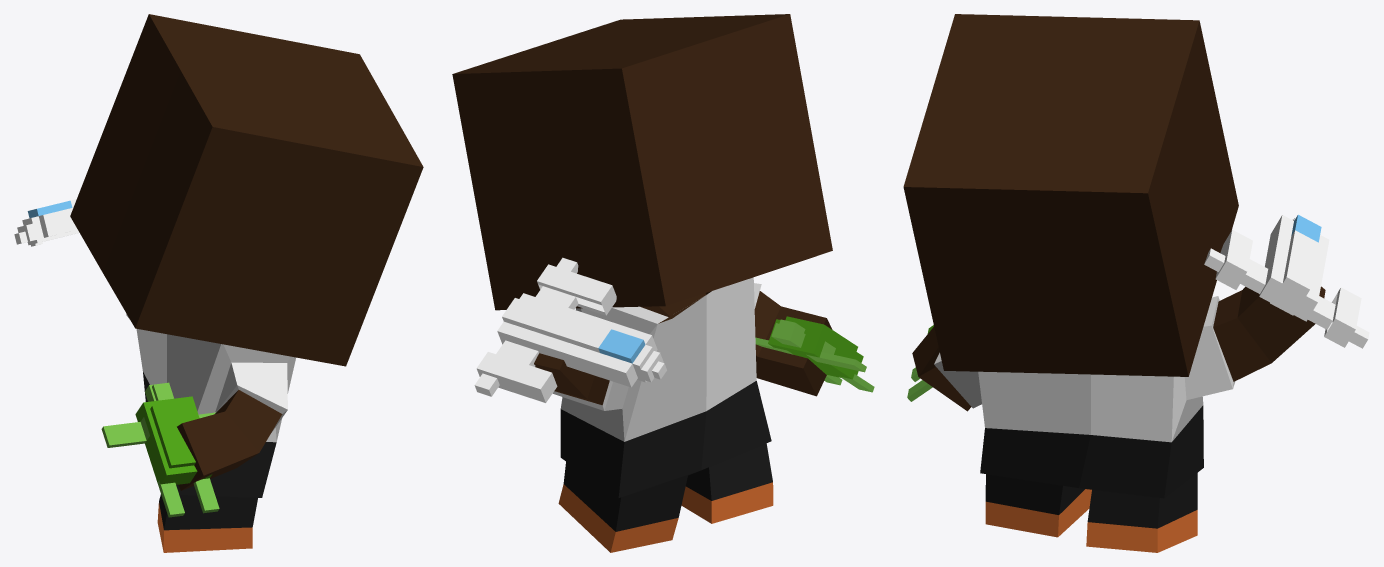
Rendered from Character Holding Toys.gltf.
3 views of the same model, side by side, from view 1: azimuth 30°, elevation 25°; view 2: azimuth 150°, elevation 25°; view 3: azimuth 270°, elevation 25° (orthographic). The views are drawn at different scales.
Visible parts, largest first — view 1: Cube.002, Turtle, Cube; view 2: Cube.002, Cube, Turtle; view 3: Cube.002, Cube.
Boxes of the visible parts, <box> form: Cube.002: <box>70,14,423,552</box>; Turtle: <box>101,382,219,517</box>; Cube: <box>14,199,79,246</box>; Cube.002: <box>452,14,832,552</box>; Cube: <box>474,257,666,402</box>; Turtle: <box>755,316,874,392</box>; Cube.002: <box>903,14,1325,552</box>; Cube: <box>1204,214,1369,348</box>.
Size of the model in its own units: 1.37 by 1.91 by 1.57.
Materials: 7 (1 with a texture image).
